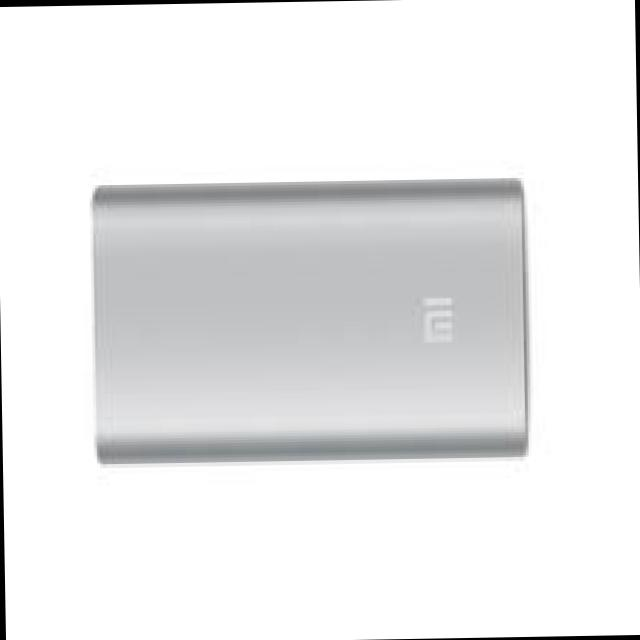portable-charger: (86, 173, 528, 468)
